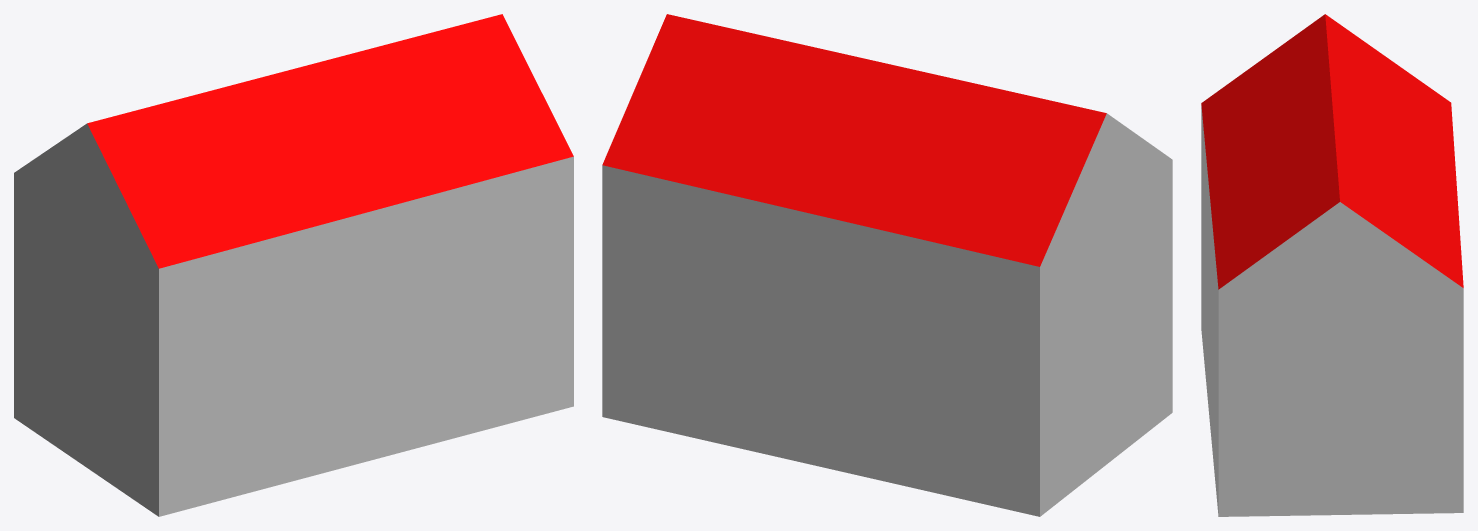
The picture shows the model from 3 angles, left to right: view 1: azimuth 30°, elevation 25°; view 2: azimuth 150°, elevation 25°; view 3: azimuth 270°, elevation 25°; orthographic projection. The views are drawn at different scales.
Size of the model in its own units: 7.64 by 5.83 by 4.43.
